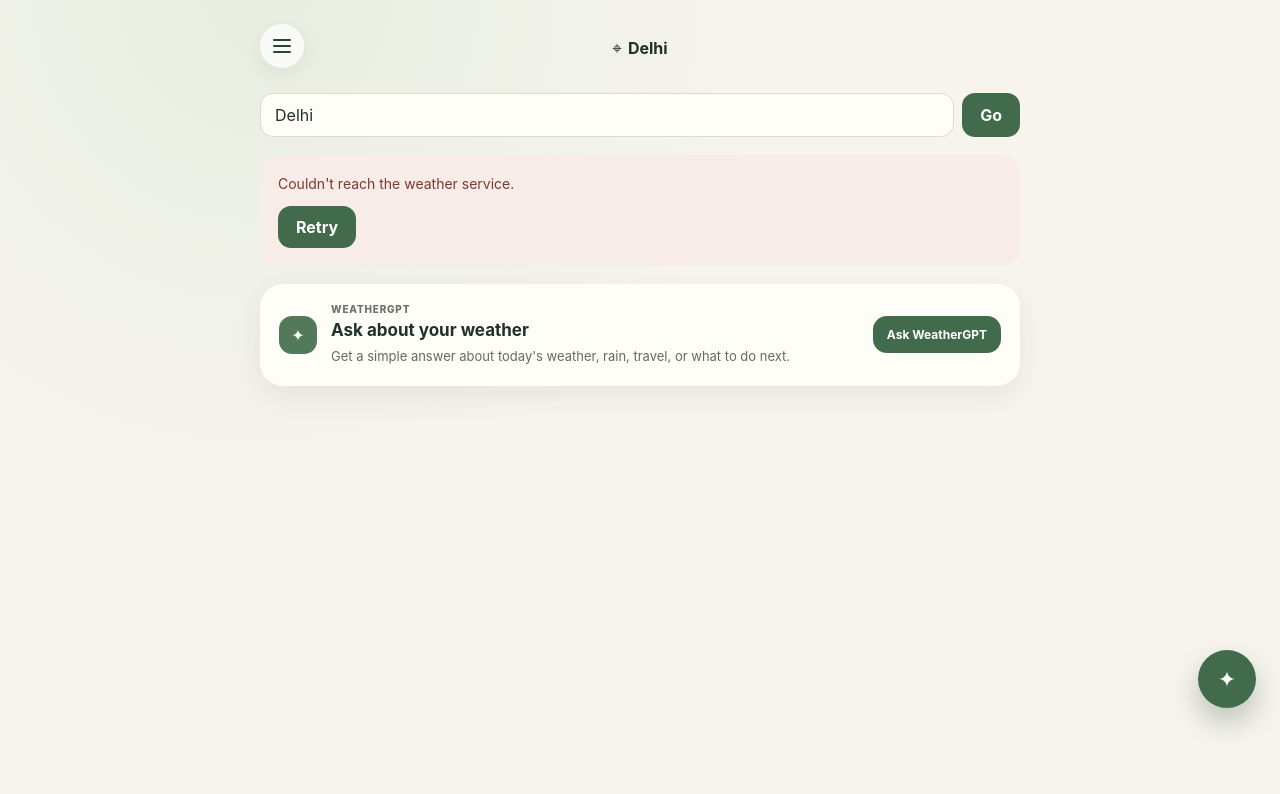
it: shows an error state with retry when the fetch fails, then recovers on retry
expect the text "Couldn't reach the weather service." is shown: met, box left=278, top=173, right=514, bottom=194
Click the button "Retry" at [317, 227], box left=278, top=206, right=356, bottom=248
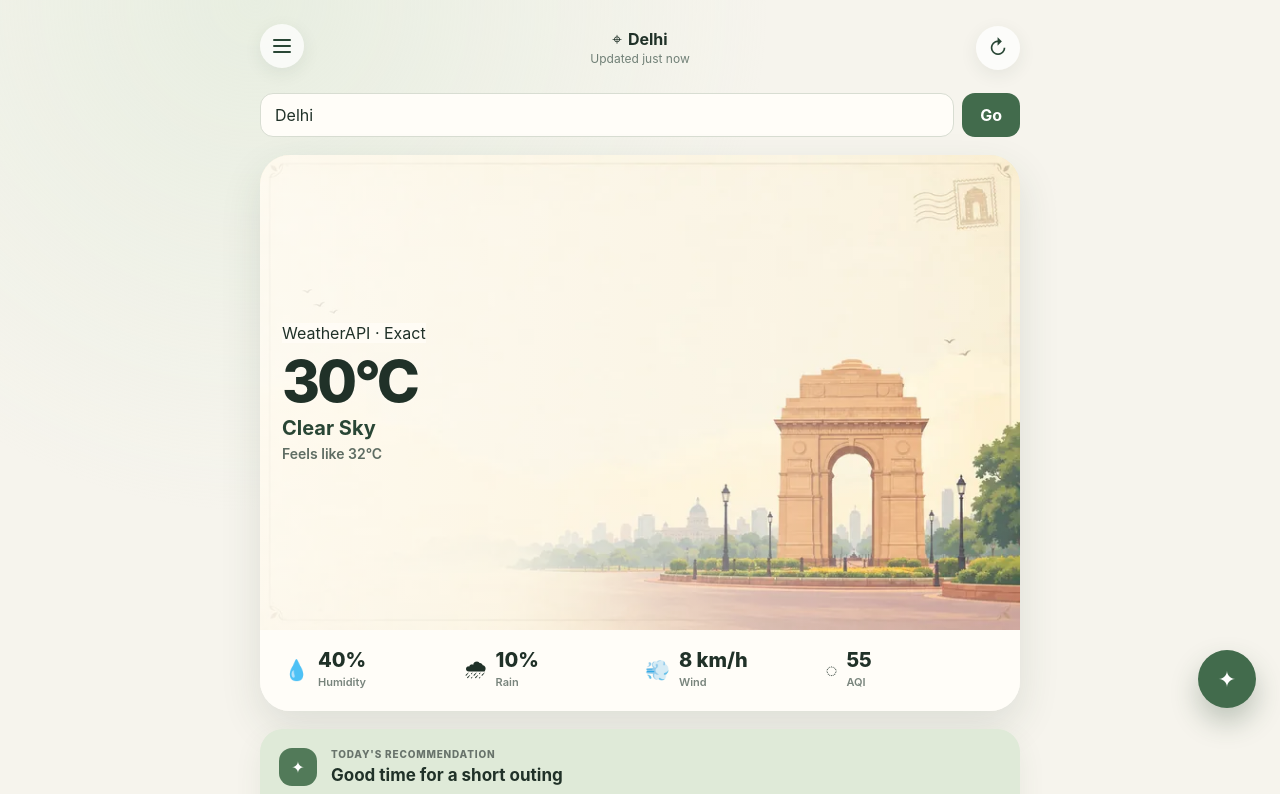
expect the text "30°C" is shown: met, box left=282, top=355, right=417, bottom=408
